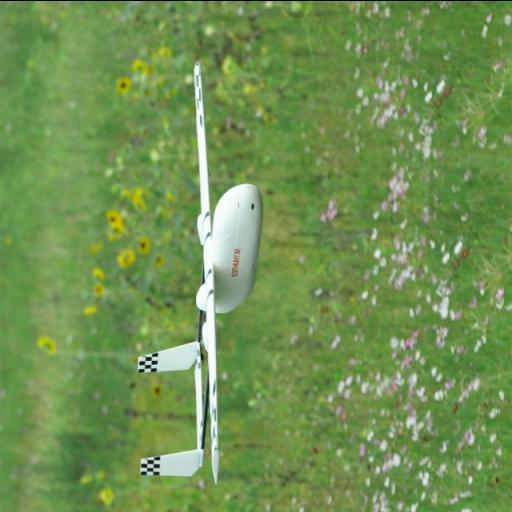uav: (136, 60, 262, 484)
